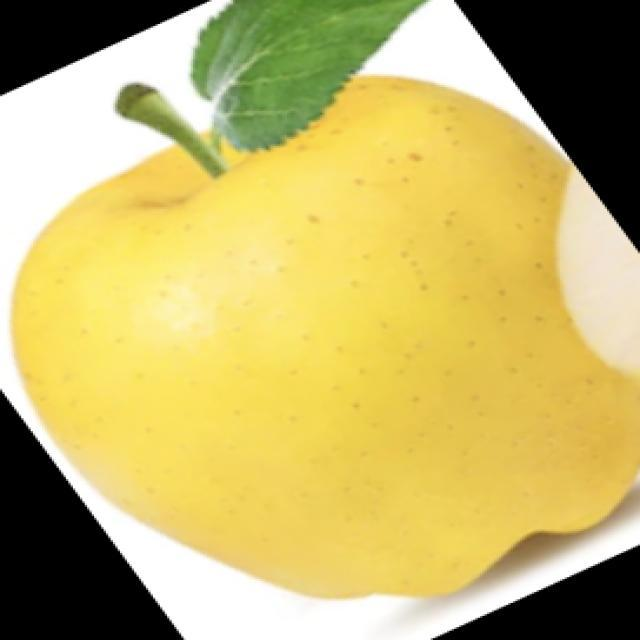Fresh Apple: (0, 70, 633, 615)
